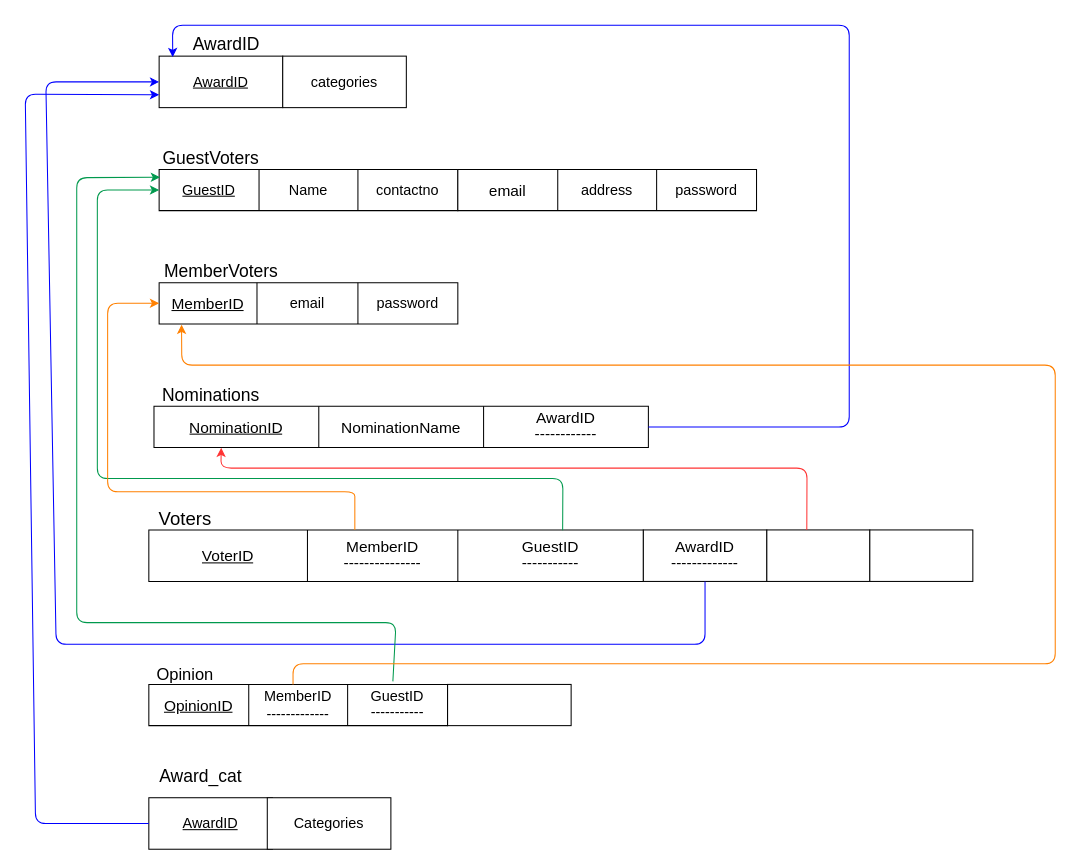
This 1082x867 diagram has some shape labels left out. The centre of each missing label's shape, as x and y in pixels:
comment: [509,704]
Nomination Name: [921,555]
NominationID ----------------: [818,555]
